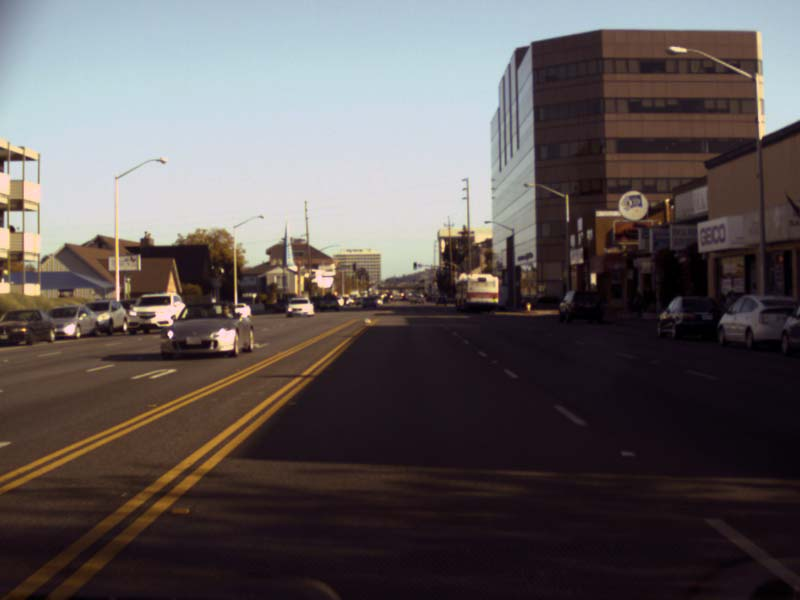Green: (412, 262, 417, 269)
